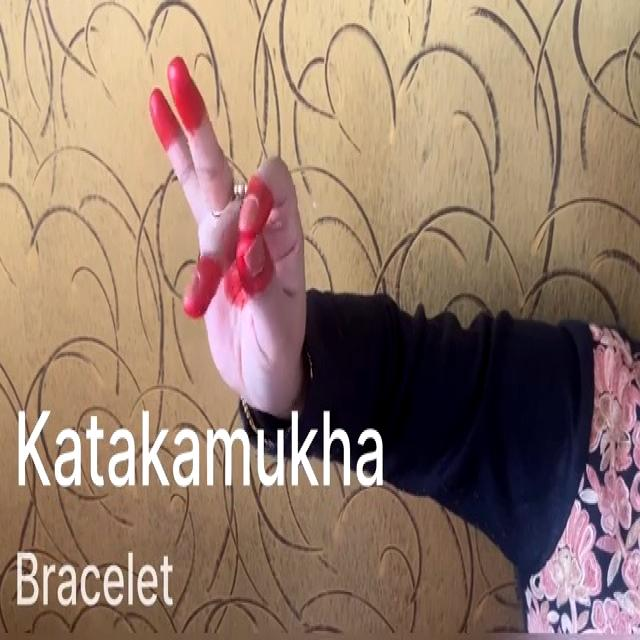Katakamukha: (128, 48, 326, 404)
text: (16, 389, 391, 512), (10, 528, 185, 624)
